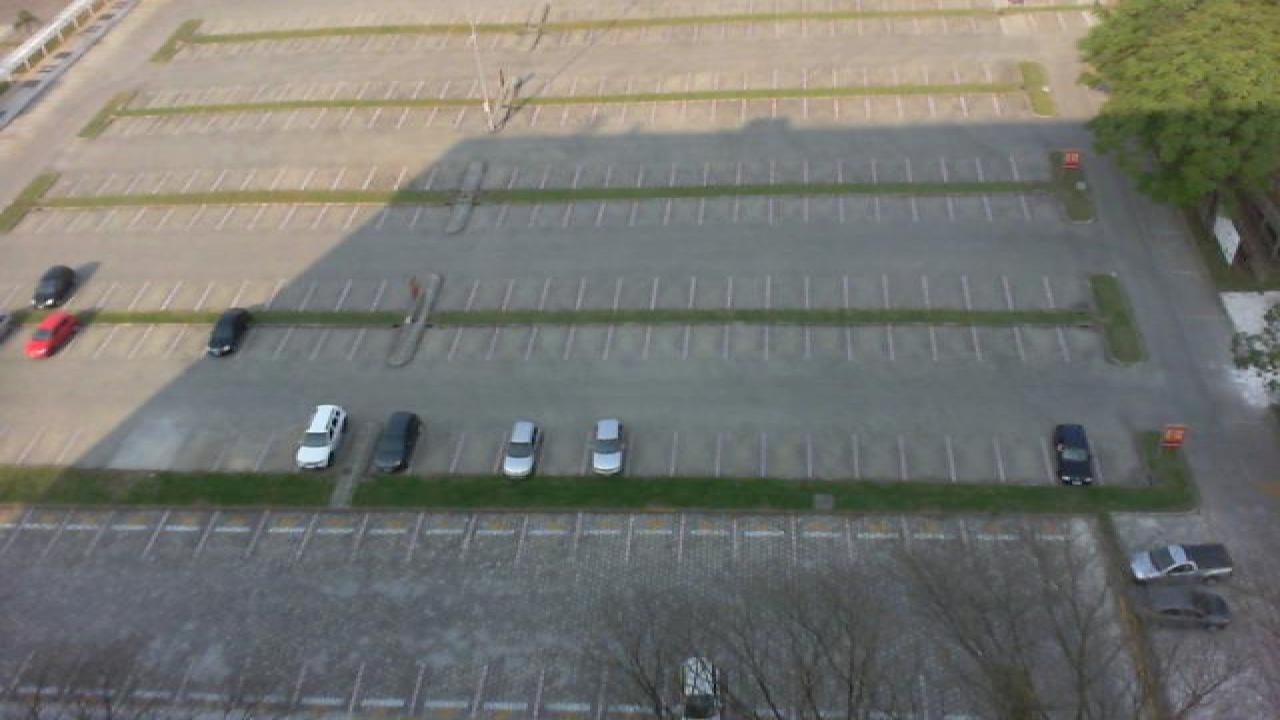Car: (1128, 542, 1234, 584), (294, 402, 348, 472), (1148, 588, 1232, 629), (370, 410, 422, 474), (1052, 423, 1100, 487), (22, 310, 80, 359), (498, 420, 546, 479), (680, 657, 720, 720), (204, 307, 252, 359), (588, 419, 628, 477), (30, 264, 78, 310)
